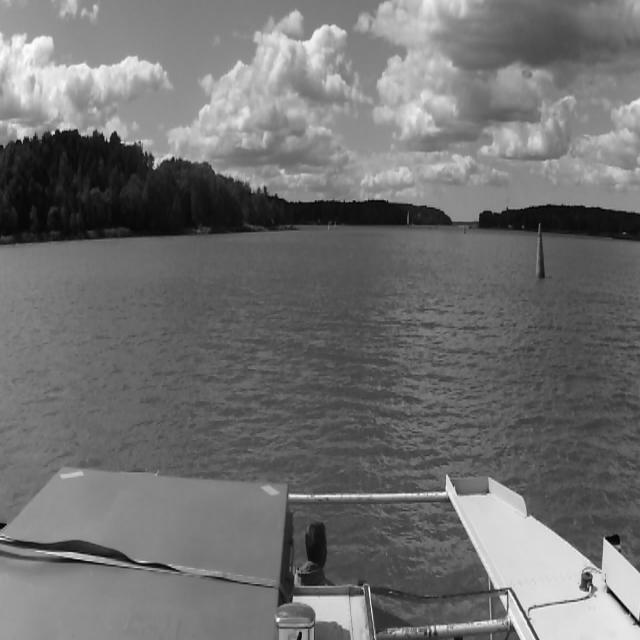buoy: (535, 223, 545, 279)
